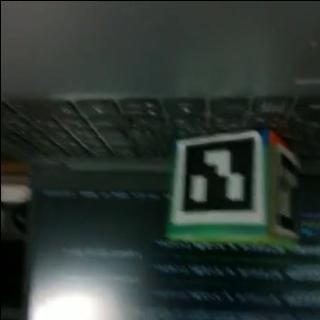armor: (170, 130, 262, 227)
robot: (168, 126, 298, 247)
